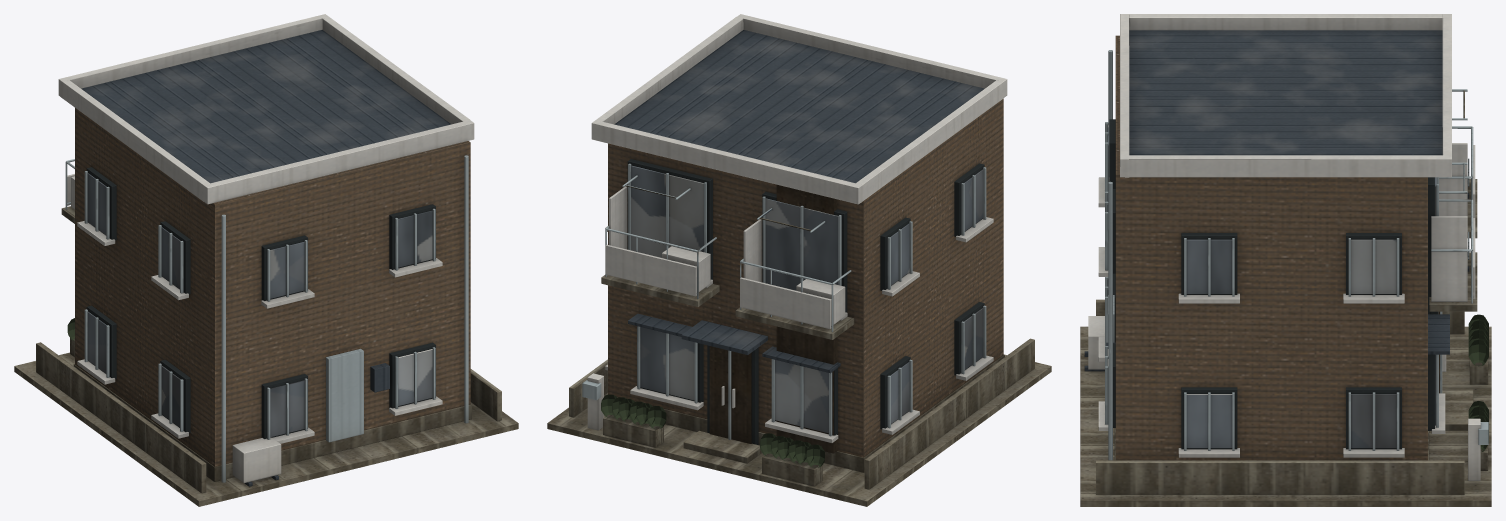
Rendered from residential_014.obj.
3 views of the same model, side by side, from view 1: azimuth 30°, elevation 25°; view 2: azimuth 150°, elevation 25°; view 3: azimuth 270°, elevation 25° (orthographic). The views are drawn at different scales.
Visible parts, largest first — view 1: residential_014; view 2: residential_014; view 3: residential_014.
Part boxes in pixels (box(x1,y1,x2,y2)): residential_014: box(14, 14, 518, 506); residential_014: box(547, 14, 1051, 506); residential_014: box(1080, 14, 1491, 506).
Size of the model in its own units: 7.25 by 6.49 by 7.25.
Materials: 1 (1 with a texture image).
